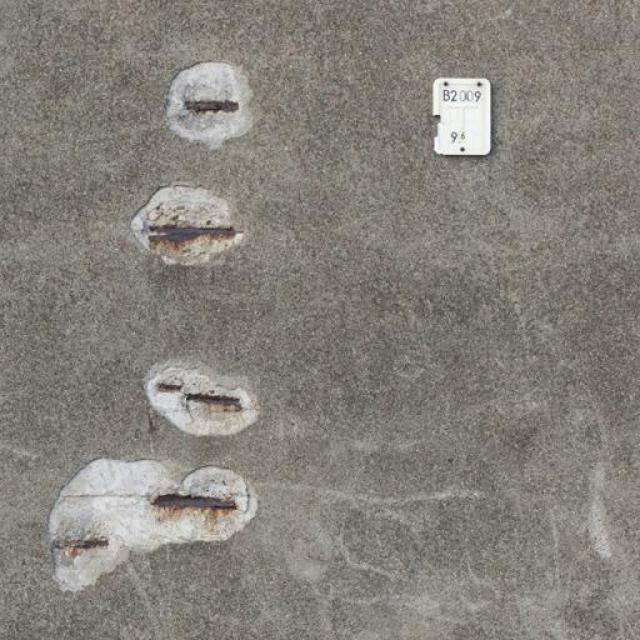Rebar: (45, 458, 259, 590), (142, 357, 258, 438), (128, 183, 242, 265), (164, 59, 255, 150)
